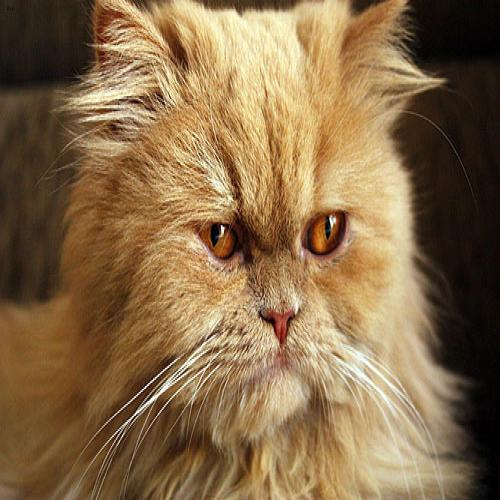persian: (78, 1, 417, 460)
